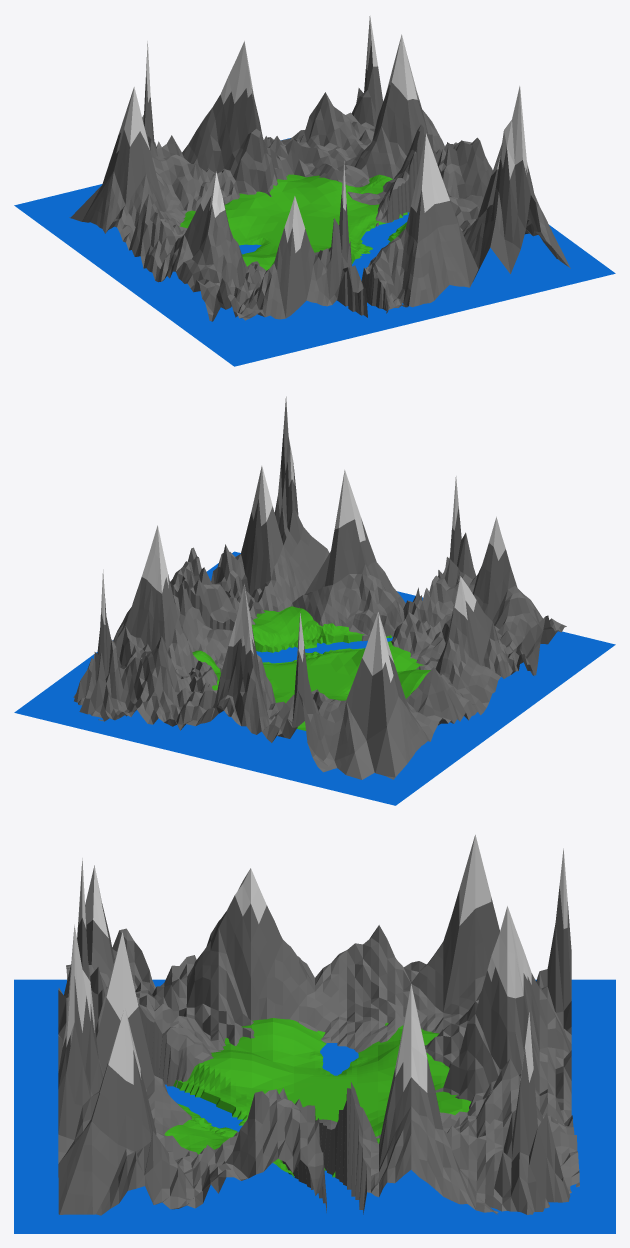
File: Enviroment.fbx
The picture shows the model from 3 angles, top to bottom: view 1: azimuth 30°, elevation 25°; view 2: azimuth 150°, elevation 25°; view 3: azimuth 270°, elevation 25°; orthographic projection. The views are drawn at different scales.
Visible parts, largest first — view 1: Rocks, Plane, Rocks.001; view 2: Rocks, Plane, Rocks.001; view 3: Rocks, Plane, Rocks.001.
Part boxes in pixels (<box>): Rocks: <box>69,15,570,321</box>; Plane: <box>14,138,615,366</box>; Rocks.001: <box>179,174,409,270</box>; Rocks: <box>73,396,566,779</box>; Plane: <box>14,551,615,805</box>; Rocks.001: <box>192,606,430,730</box>; Rocks: <box>58,834,579,1215</box>; Plane: <box>14,979,615,1233</box>; Rocks.001: <box>164,1018,471,1177</box>.
Bounding box in the file's own units: 15401 × 7844 × 15401.
